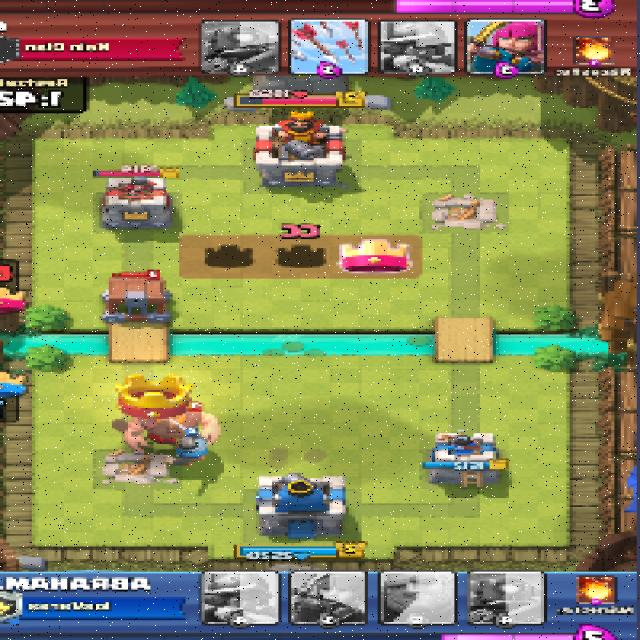Enemy-Giant: (124, 404, 222, 452)
Player-GoblinCage: (97, 275, 174, 324)
Player-Knight: (162, 431, 211, 466)
